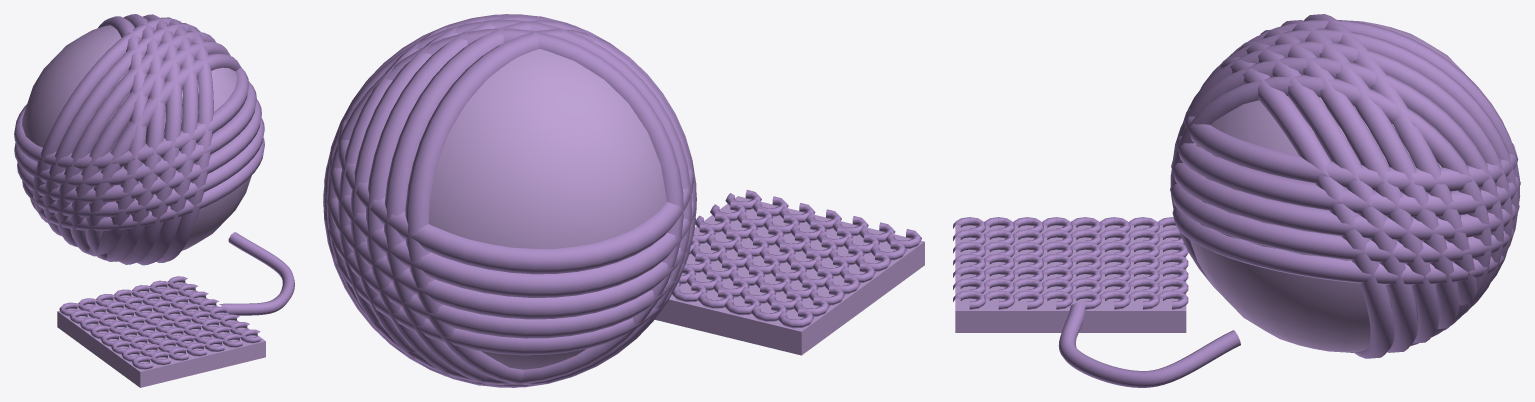
Rendered from yarn.glb.
3 views of the same model, side by side, from view 1: azimuth 30°, elevation 25°; view 2: azimuth 150°, elevation 25°; view 3: azimuth 270°, elevation 25° (orthographic). The views are drawn at different scales.
Visible parts, largest first — view 1: Yarn_ball_core, Yarn_swatch, Yarn_wrap_1_-2, Yarn_wrap_1_-1, Yarn_wrap_0_1, Yarn_wrap_0_0, Yarn_wrap_2_-1, Yarn_wrap_2_0, Yarn_wrap_1_0, Yarn_wrap_0_2, Yarn_wrap_0_-1, Yarn_wrap_2_-2 (+6 smaller); view 2: Yarn_ball_core, Yarn_swatch, Yarn_wrap_0_-2, Yarn_wrap_1_-2, Yarn_wrap_2_-2, Yarn_wrap_1_-1, Yarn_wrap_2_-1, Yarn_wrap_1_0, Yarn_wrap_1_1, Yarn_wrap_2_0, Yarn_wrap_0_-1, Yarn_wrap_1_2 (+4 smaller); view 3: Yarn_ball_core, Yarn_swatch, Yarn_wrap_1_0, Yarn_wrap_1_-1, Yarn_wrap_0_2, Yarn_wrap_0_1, Yarn_wrap_2_2, Yarn_wrap_1_1, Yarn_wrap_1_-2, Yarn_wrap_0_0, Yarn_wrap_1_2, Yarn_wrap_2_1 (+6 smaller).
Boxes of the visible parts, x1=… form: Yarn_ball_core: x1=22, y1=25, x2=251, y2=250; Yarn_swatch: x1=57, y1=282, x2=265, y2=387; Yarn_wrap_1_-2: x1=14, y1=67, x2=249, y2=170; Yarn_wrap_1_-1: x1=14, y1=81, x2=256, y2=187; Yarn_wrap_0_1: x1=70, y1=41, x2=230, y2=254; Yarn_wrap_0_0: x1=56, y1=31, x2=215, y2=246; Yarn_wrap_2_-1: x1=106, y1=14, x2=165, y2=261; Yarn_wrap_2_0: x1=118, y1=14, x2=182, y2=264; Yarn_wrap_1_0: x1=17, y1=100, x2=261, y2=203; Yarn_wrap_0_2: x1=85, y1=53, x2=240, y2=261; Yarn_wrap_0_-1: x1=43, y1=23, x2=200, y2=236; Yarn_wrap_2_-2: x1=87, y1=16, x2=147, y2=256; Yarn_ball_core: x1=428, y1=49, x2=666, y2=369; Yarn_swatch: x1=655, y1=196, x2=924, y2=355; Yarn_wrap_0_-2: x1=326, y1=28, x2=683, y2=384; Yarn_wrap_1_-2: x1=337, y1=107, x2=693, y2=274; Yarn_wrap_2_-2: x1=405, y1=29, x2=623, y2=385; Yarn_wrap_1_-1: x1=329, y1=136, x2=696, y2=297; Yarn_wrap_2_-1: x1=384, y1=20, x2=583, y2=387; Yarn_wrap_1_0: x1=324, y1=166, x2=695, y2=319; Yarn_wrap_1_1: x1=323, y1=201, x2=689, y2=338; Yarn_wrap_2_0: x1=366, y1=15, x2=547, y2=385; Yarn_wrap_0_-1: x1=323, y1=20, x2=691, y2=387; Yarn_wrap_1_2: x1=329, y1=244, x2=671, y2=355; Yarn_ball_core: x1=1190, y1=20, x2=1475, y2=352; Yarn_swatch: x1=955, y1=225, x2=1186, y2=332; Yarn_wrap_1_0: x1=1171, y1=161, x2=1519, y2=240; Yarn_wrap_1_-1: x1=1175, y1=136, x2=1520, y2=216; Yarn_wrap_0_2: x1=1220, y1=57, x2=1394, y2=358; Yarn_wrap_0_1: x1=1237, y1=41, x2=1417, y2=352; Yarn_wrap_2_2: x1=1170, y1=74, x2=1491, y2=352; Yarn_wrap_1_1: x1=1170, y1=183, x2=1514, y2=263; Yarn_wrap_1_-2: x1=1184, y1=109, x2=1518, y2=192; Yarn_wrap_0_0: x1=1260, y1=29, x2=1439, y2=343; Yarn_wrap_1_2: x1=1172, y1=207, x2=1504, y2=285; Yarn_wrap_2_1: x1=1172, y1=57, x2=1503, y2=308.
Bounding box in the file's own units: 0.5563 × 0.4844 × 0.7856.
